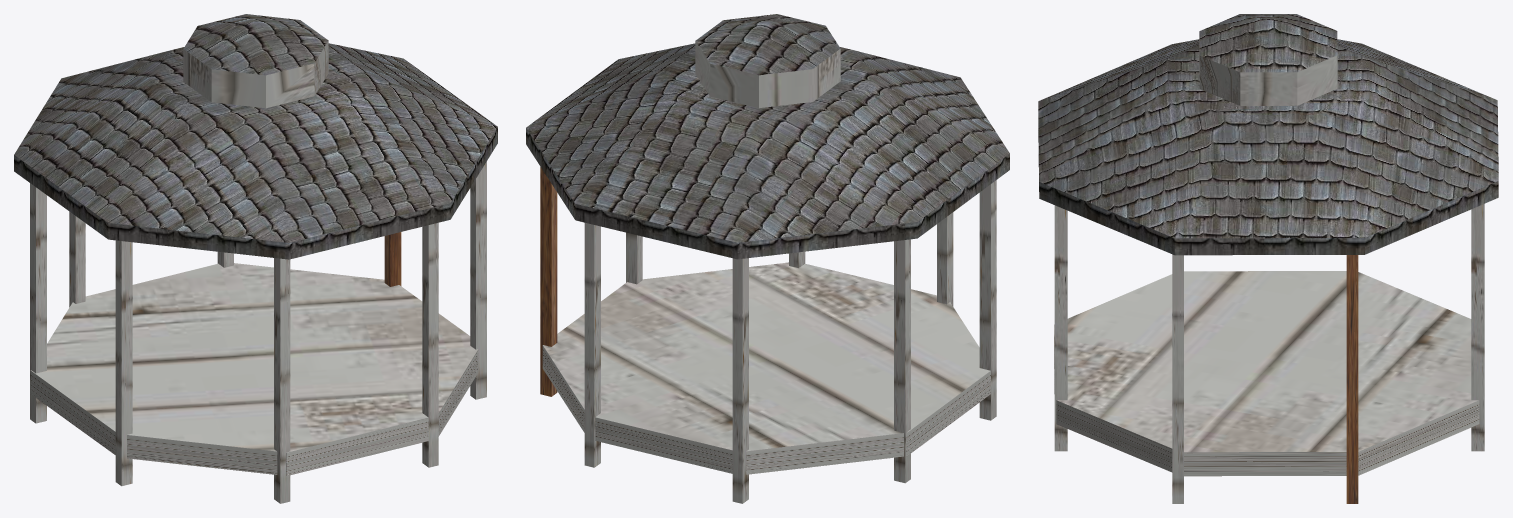
File: Gazebo2.fbx
3 renders of one model, left to right at view 1: azimuth 30°, elevation 25°; view 2: azimuth 150°, elevation 25°; view 3: azimuth 270°, elevation 25°, orthographic.
Visible parts, largest first — view 1: GazeboRoof, GazeboFloor, pasted__pasted__pasted__GazeboPost2, GazeboPost3, GazeboPost1, pasted__pasted__GazeboPost2, pasted__pasted__pasted__pasted__GazeboPost1, GazeboPost4, pasted__pasted__pasted__pasted__GazeboPost2; view 2: GazeboRoof, GazeboFloor, GazeboPost4, GazeboPost2, pasted__pasted__pasted__GazeboPost2, pasted__pasted__pasted__pasted__GazeboPost1, pasted__pasted__pasted__pasted__GazeboPost2, GazeboPost3, pasted__pasted__GazeboPost2; view 3: GazeboRoof, GazeboFloor, GazeboPost2, pasted__pasted__pasted__pasted__GazeboPost2, GazeboPost1, pasted__pasted__GazeboPost2.
Part boxes in pixels (x1=…): GazeboRoof: x1=14, y1=14, x2=497, y2=259; GazeboFloor: x1=30, y1=263, x2=478, y2=475; pasted__pasted__pasted__GazeboPost2: x1=115, y1=240, x2=132, y2=486; GazeboPost3: x1=274, y1=258, x2=290, y2=503; GazeboPost1: x1=422, y1=222, x2=438, y2=467; pasted__pasted__GazeboPost2: x1=470, y1=161, x2=486, y2=399; pasted__pasted__pasted__pasted__GazeboPost1: x1=30, y1=183, x2=46, y2=423; GazeboPost4: x1=69, y1=211, x2=85, y2=307; pasted__pasted__pasted__pasted__GazeboPost2: x1=384, y1=232, x2=401, y2=286; GazeboRoof: x1=526, y1=14, x2=1009, y2=259; GazeboFloor: x1=542, y1=262, x2=990, y2=474; GazeboPost4: x1=732, y1=258, x2=748, y2=503; GazeboPost2: x1=584, y1=222, x2=600, y2=467; pasted__pasted__pasted__GazeboPost2: x1=979, y1=180, x2=996, y2=420; pasted__pasted__pasted__pasted__GazeboPost1: x1=894, y1=239, x2=910, y2=483; pasted__pasted__pasted__pasted__GazeboPost2: x1=540, y1=167, x2=557, y2=396; GazeboPost3: x1=937, y1=212, x2=953, y2=306; pasted__pasted__GazeboPost2: x1=626, y1=232, x2=642, y2=284; GazeboRoof: x1=1038, y1=14, x2=1498, y2=255; GazeboFloor: x1=1054, y1=271, x2=1479, y2=476; GazeboPost2: x1=1471, y1=204, x2=1484, y2=451; pasted__pasted__pasted__pasted__GazeboPost2: x1=1346, y1=255, x2=1358, y2=503; GazeboPost1: x1=1054, y1=205, x2=1067, y2=451; pasted__pasted__GazeboPost2: x1=1172, y1=254, x2=1183, y2=503.
Size of the model in its own units: 20.67 by 19.42 by 20.67.
